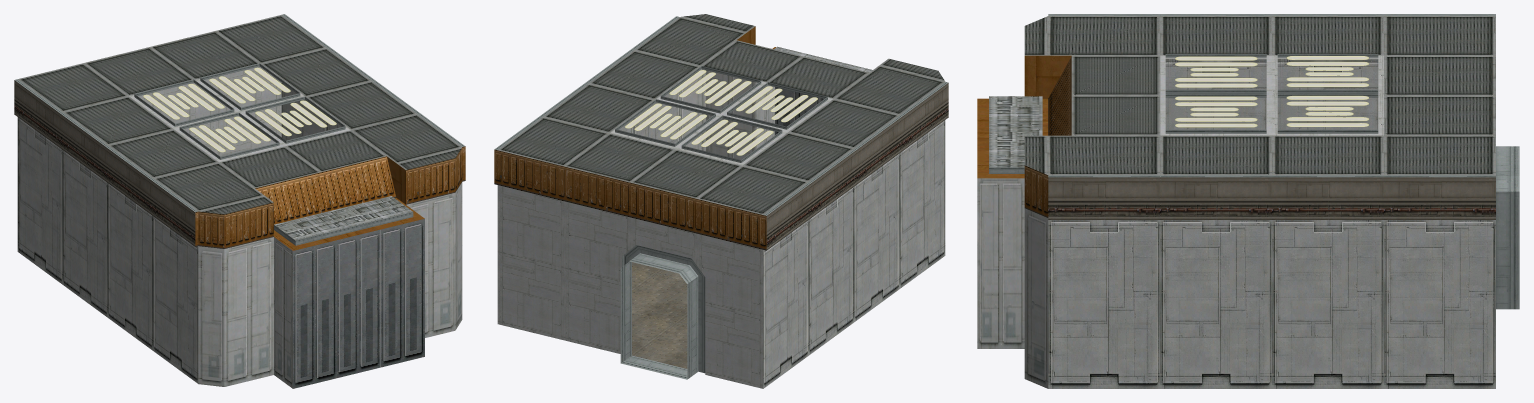
Rendered from mun_all_military_base_police_station_rebl_s01_r4_meeting1_mesh_r4.fbx.
3 views of the same model, side by side, from view 1: azimuth 30°, elevation 25°; view 2: azimuth 150°, elevation 25°; view 3: azimuth 270°, elevation 25° (orthographic). The views are drawn at different scales.
Visible parts, largest first — view 1: mesh_node; view 2: mesh_node; view 3: mesh_node.
Boxes of the visible parts, bbox=[...] form: mesh_node: bbox=[14, 14, 465, 388]; mesh_node: bbox=[494, 14, 948, 388]; mesh_node: bbox=[977, 14, 1519, 388].
Size of the model in its own units: 8.2 by 5.09 by 11.5.
